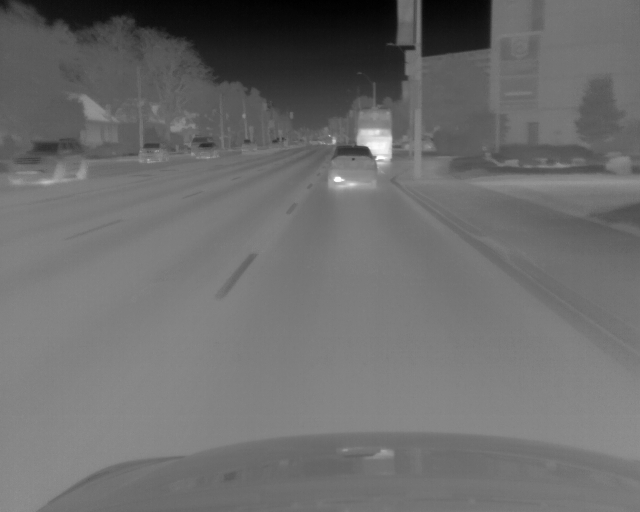car: (9, 137, 90, 186), (348, 108, 393, 163), (327, 145, 377, 192), (137, 142, 170, 165), (189, 135, 209, 157), (196, 143, 219, 160), (238, 138, 254, 154)
